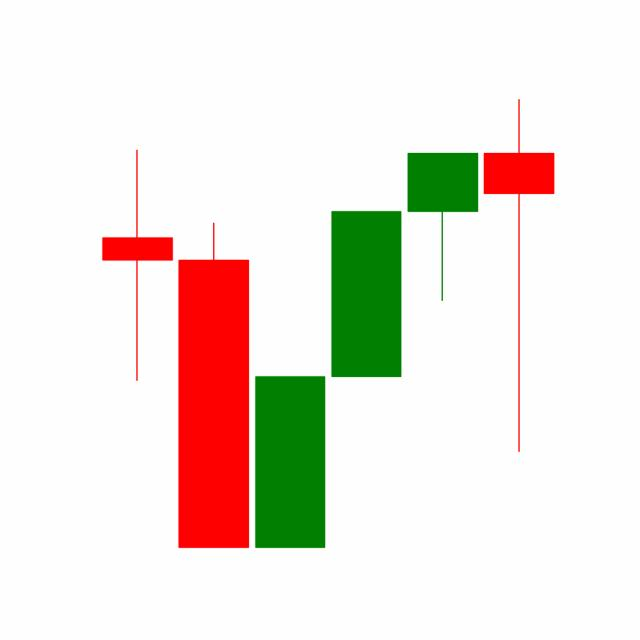Hanging Man: (403, 150, 481, 303)
